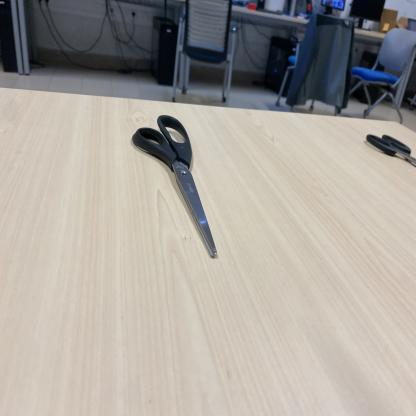scissors: (132, 114, 218, 258), (365, 135, 416, 168)
